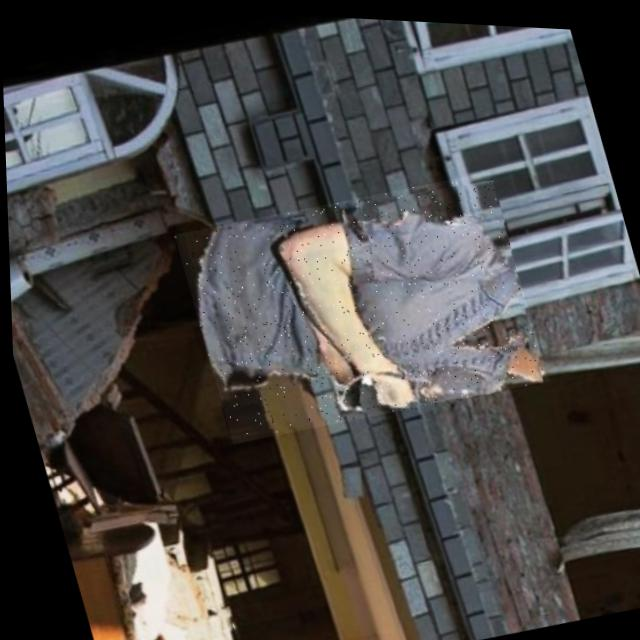Person in Rubble: (169, 153, 547, 454)
